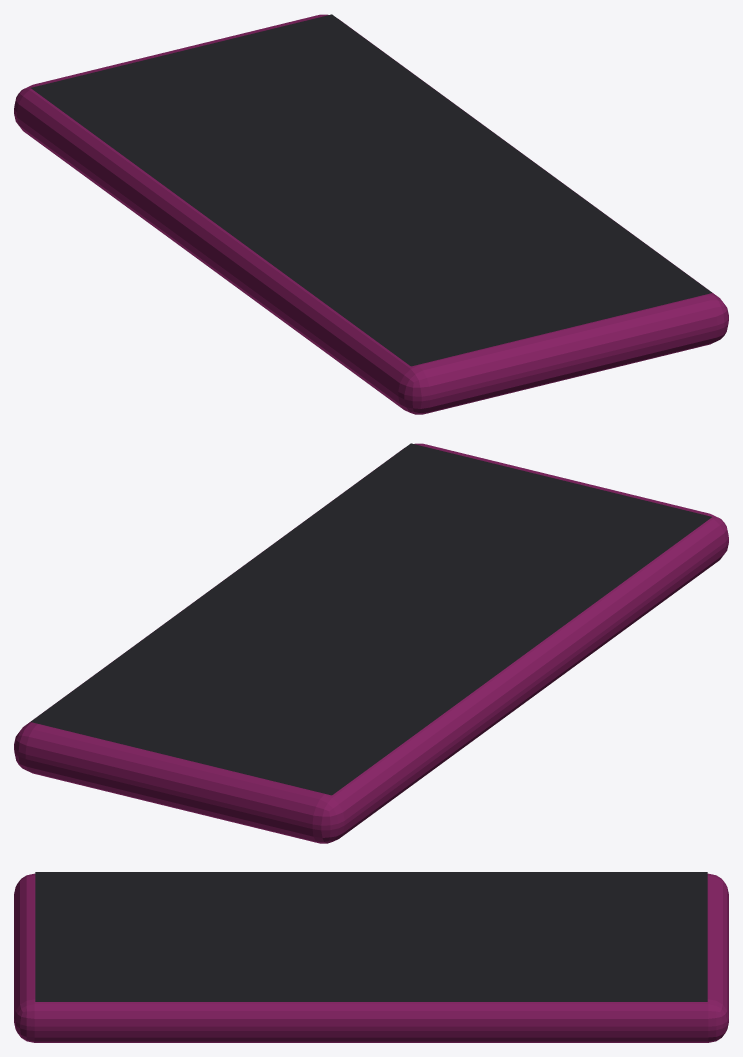
Rendered from Phone_365.glb.
The picture shows the model from 3 angles, top to bottom: view 1: azimuth 30°, elevation 25°; view 2: azimuth 150°, elevation 25°; view 3: azimuth 270°, elevation 25°; orthographic projection. The views are drawn at different scales.
Parts seen in each view (by area): view 1: Phone_Screen, Phone_Body; view 2: Phone_Screen, Phone_Body; view 3: Phone_Screen, Phone_Body.
Boxes of the visible parts, <box> form: Phone_Screen: <box>31,14,711,366</box>; Phone_Body: <box>14,14,728,414</box>; Phone_Screen: <box>31,443,711,795</box>; Phone_Body: <box>14,443,728,843</box>; Phone_Screen: <box>35,872,707,1001</box>; Phone_Body: <box>14,873,728,1042</box>.
Size of the model in its own units: 0.0717 by 0.01 by 0.1534.
